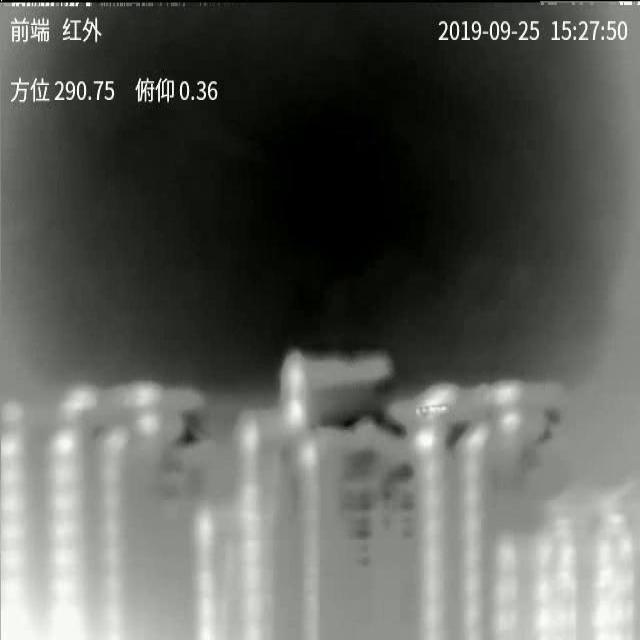drone: (415, 405, 448, 417)
